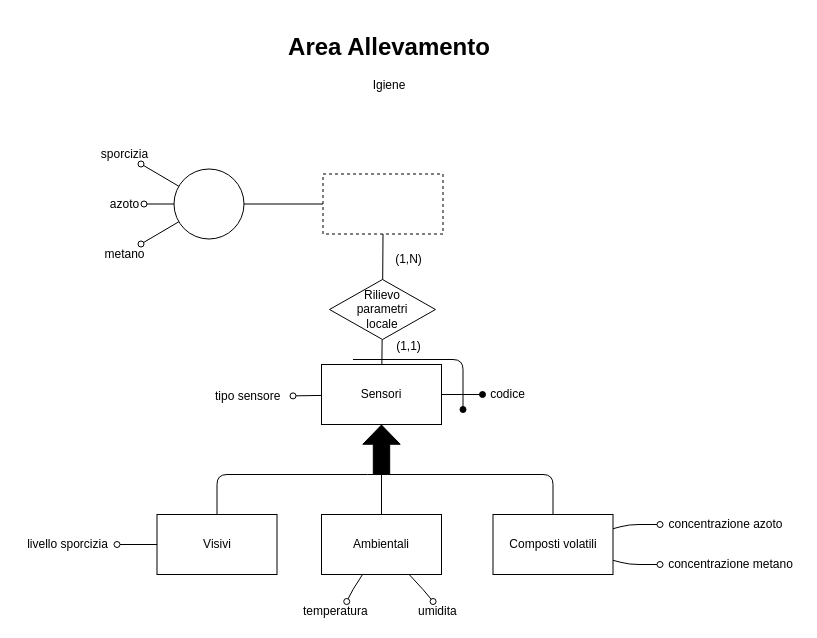
This 817x638 diagram has some shape labels left out. Each missing label, with the centre of its shape:
"Locale" belongs at pixel 382 203.
"Soglia tollerabilità" belongs at pixel 208 203.
